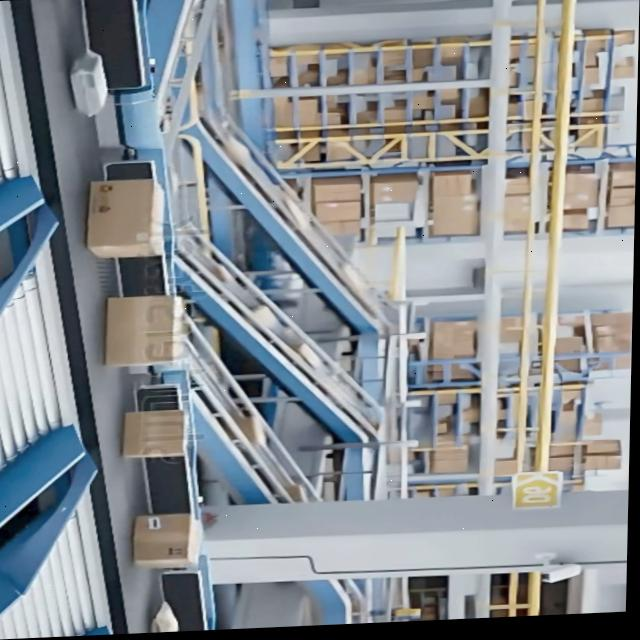product 1: (86, 176, 167, 259), (104, 292, 189, 367), (132, 511, 204, 570), (123, 408, 190, 459)
